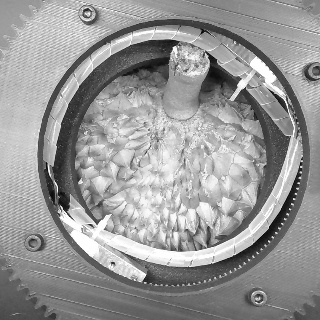base: (159, 93, 202, 127)
end: (172, 46, 210, 76)
